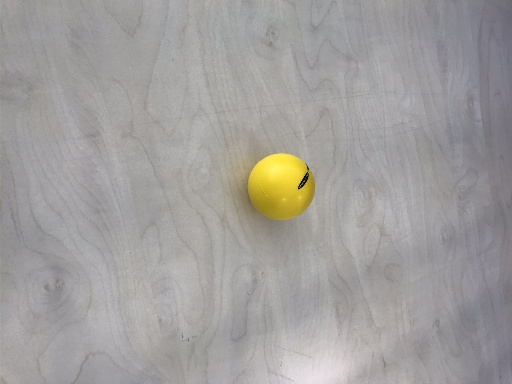Palla: (248, 153, 316, 220)
